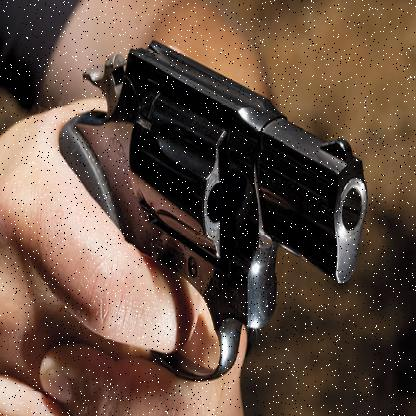pistol: (50, 34, 368, 382)
